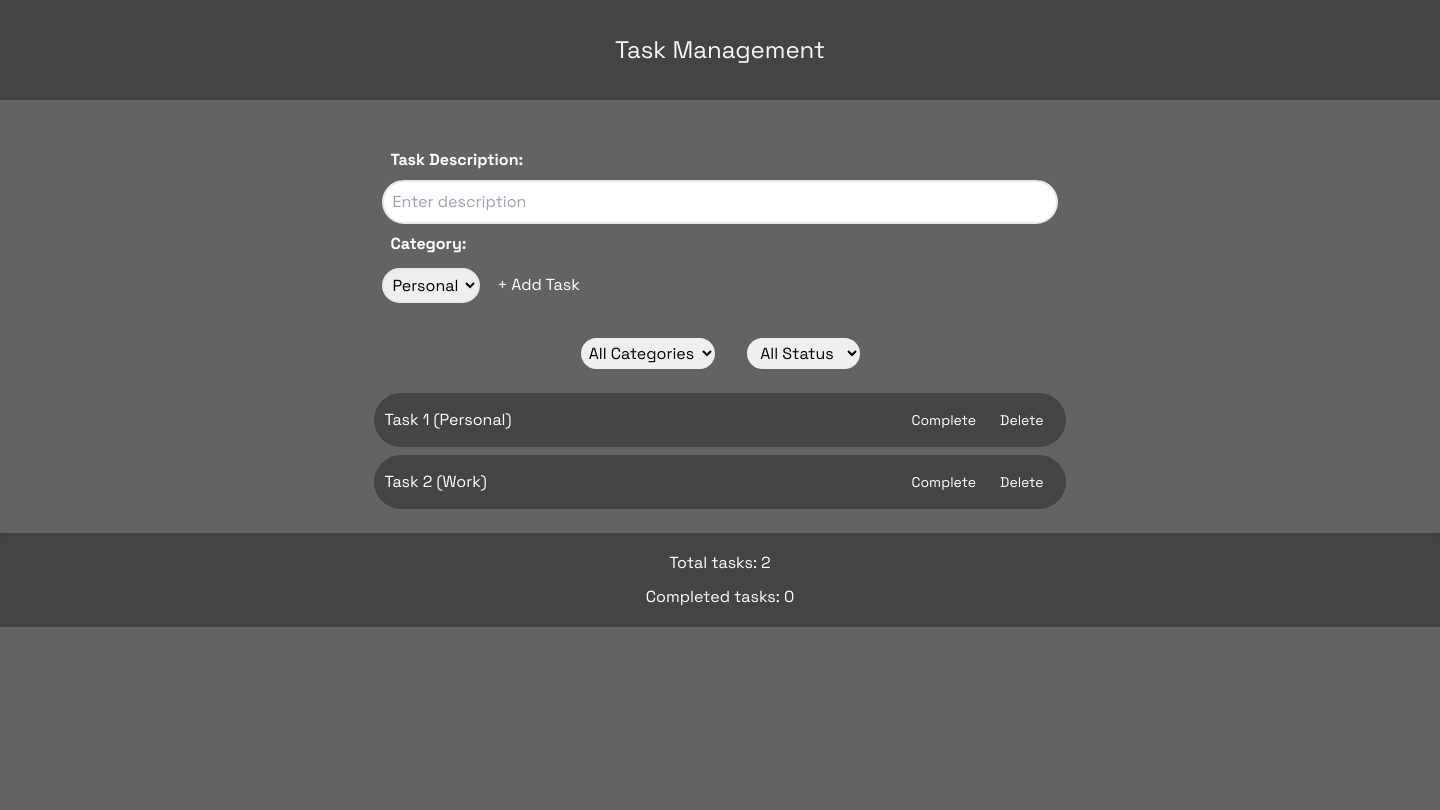
Test: Adds a new task and updates the task list and counter
Type "New Task" into the field labelled "Task Description:" at [720, 202], box [382,180,1058,224]
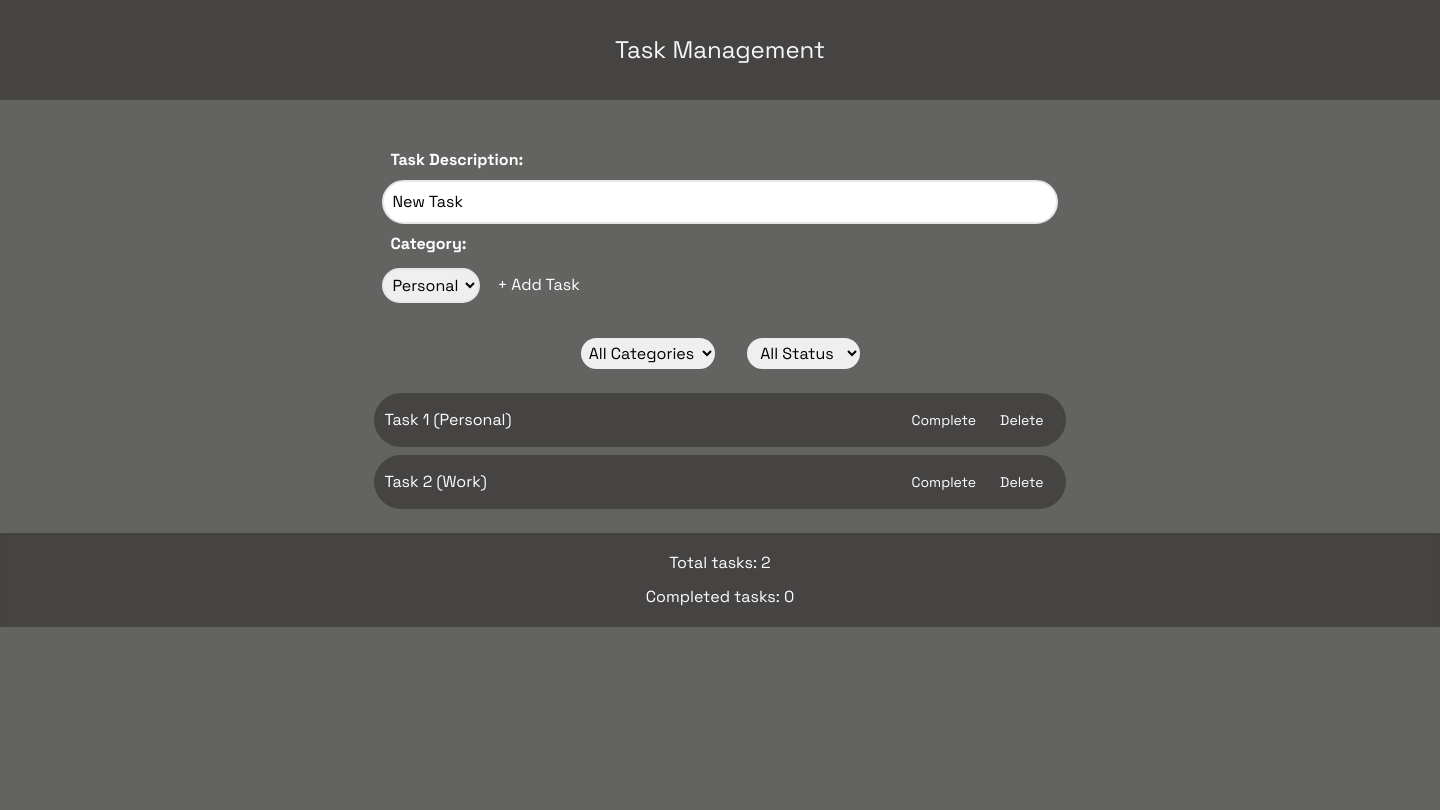
Select "Work" in the dropdown labelled "Category:" at [431, 285], box [382,268,480,302]
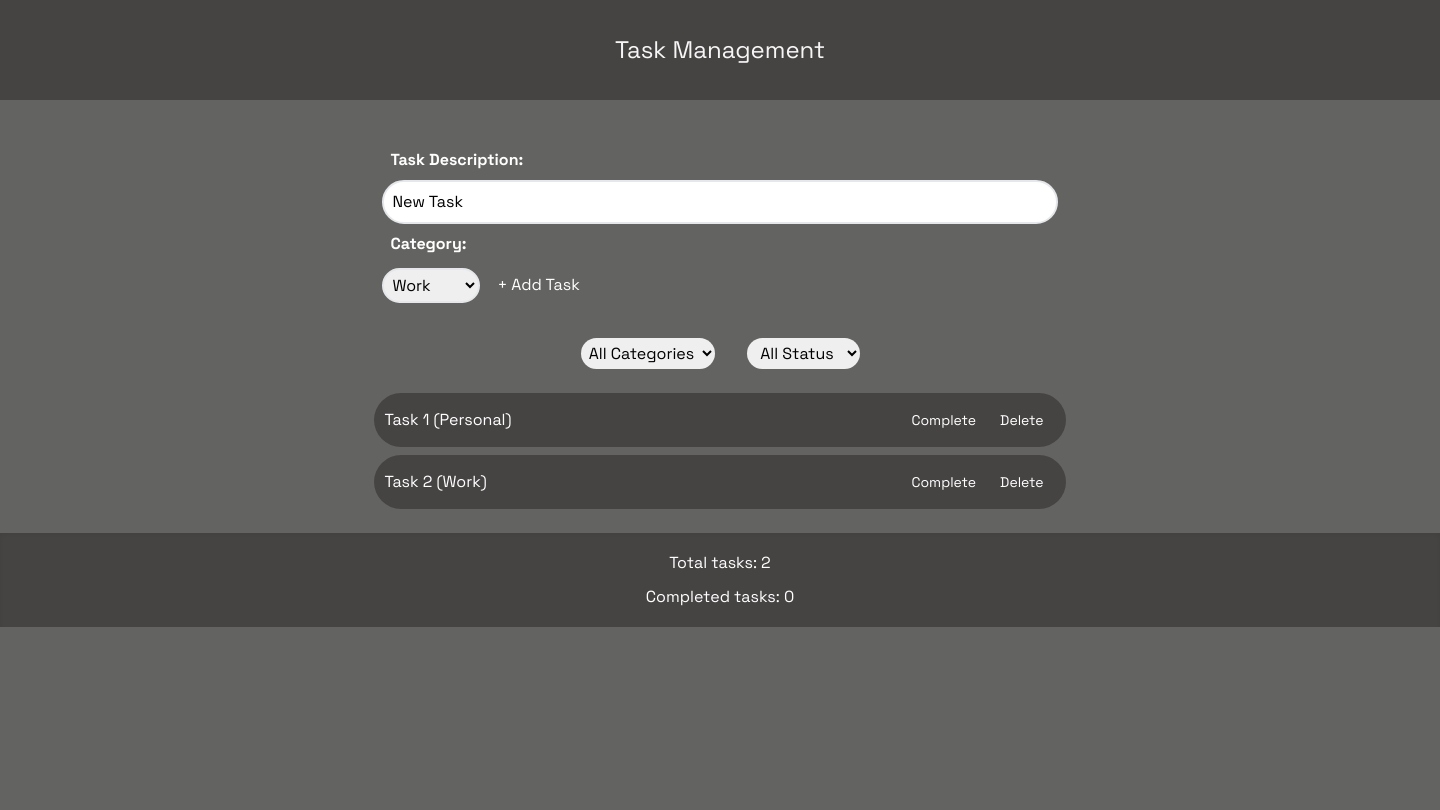
Click the button "+ Add Task" at [539, 285], box [490,266,587,304]
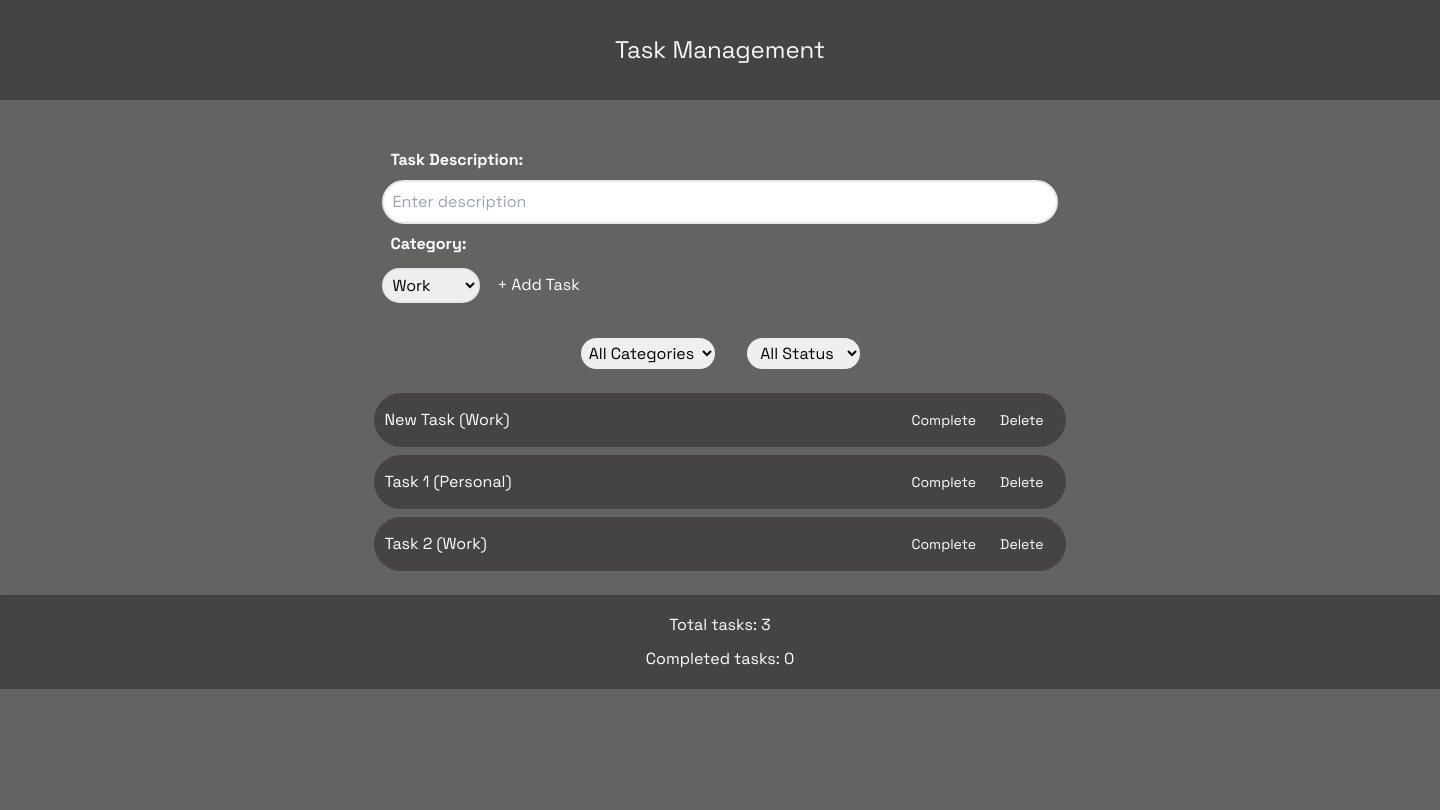
Expected: the text "Completed tasks: 0" is shown, [646,648,794,669]
Expected: the text "New Task (Work)" is shown, [384,409,510,430]
Expected: the text "Total tasks: 3" is shown, [669,614,771,635]
